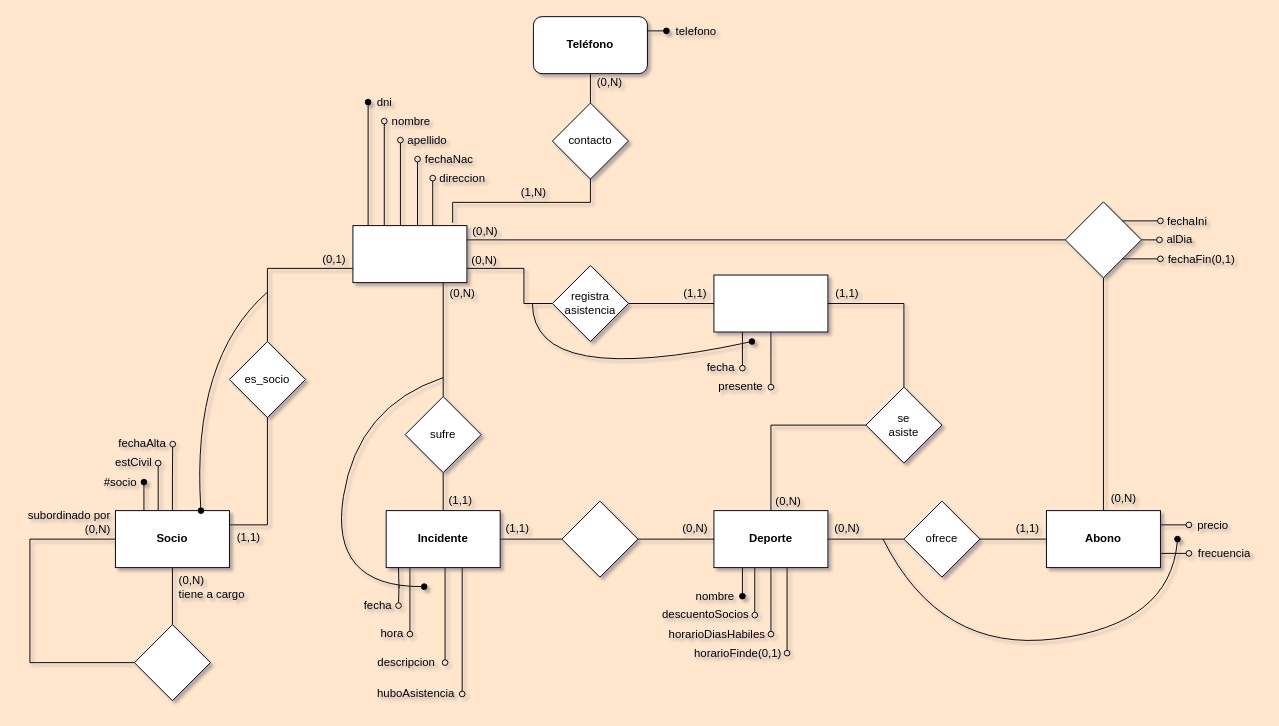
Image size: 1279x726. Some labels were removed from this diagram. The shapes that lost their labels are listed below. From the top down, each one's box as (x1, y1, x2, y2) in pixels, then its label:
(352, 225, 467, 283): Deportista
(1064, 201, 1141, 278): elige
(713, 274, 828, 332): Asistencia
(561, 500, 638, 577): registra inc
(133, 624, 210, 701): a cargo
